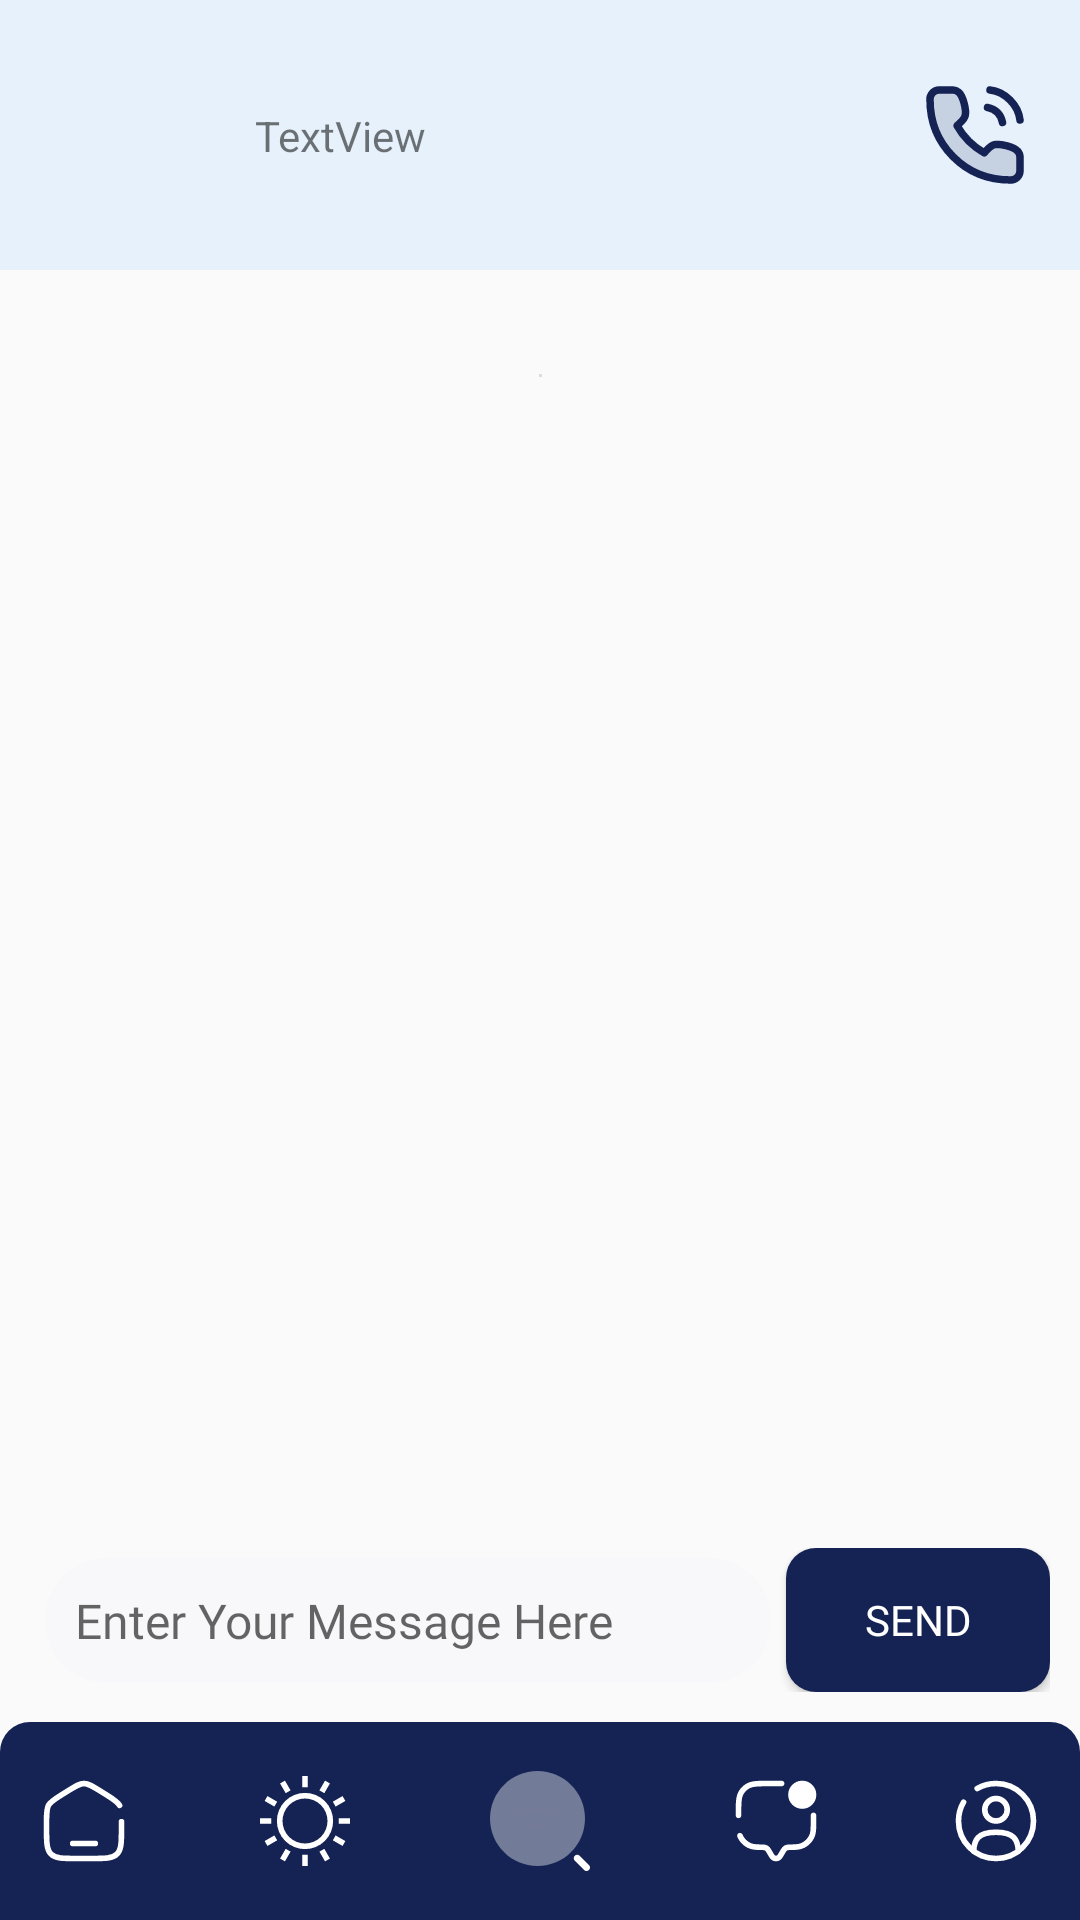

Icon click points for this 1080 x 1920 phone screenshot, format [x,y]:
call: [975,135]
chat: [776,1821]
home: [84,1821]
search ai: [540,1821]
user: [996,1821]
weather: [305,1821]
